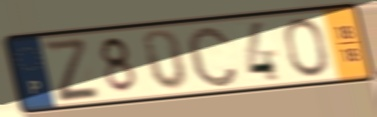0: (142, 28, 190, 94)
4: (241, 19, 284, 84)
8: (98, 34, 140, 95)
C: (183, 22, 241, 89)
O: (282, 16, 331, 79)
Z: (39, 36, 103, 104)
